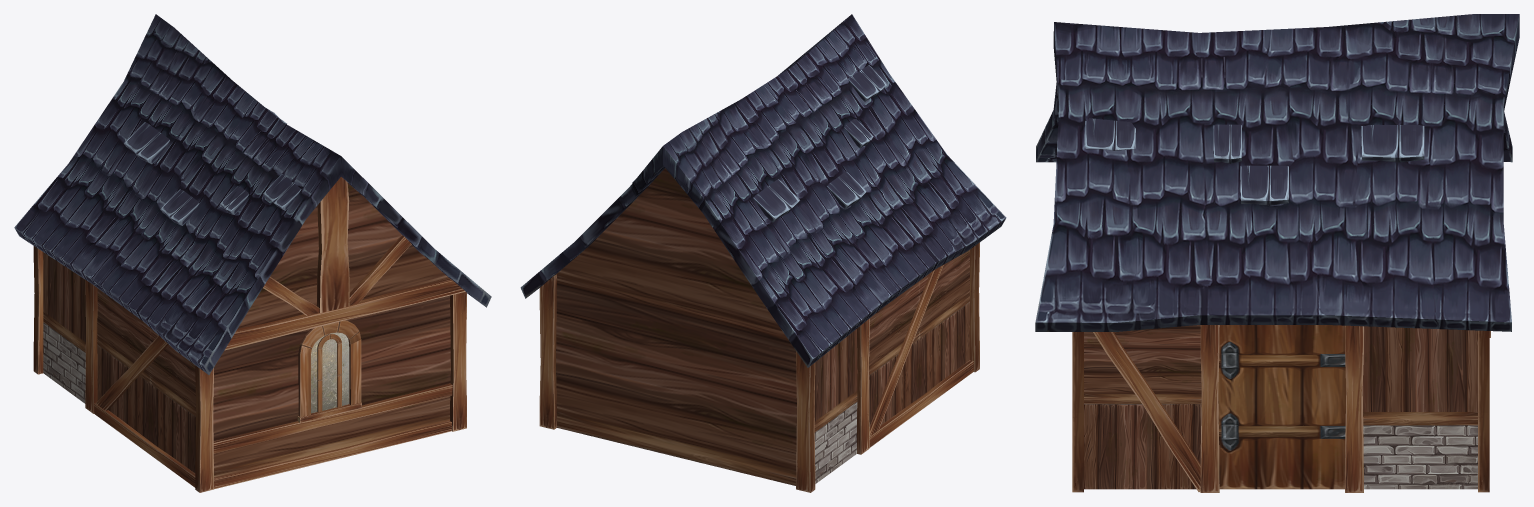
File: pingminfang02.fbx
The picture shows the model from 3 angles, left to right: view 1: azimuth 30°, elevation 25°; view 2: azimuth 150°, elevation 25°; view 3: azimuth 270°, elevation 25°; orthographic projection. The views are drawn at different scales.
Parts seen in each view (by area): view 1: 对象004; view 2: 对象004; view 3: 对象004.
Part boxes in pixels (x1,y1,x2,y2): 对象004: (14,14,491,492); 对象004: (520,14,1006,492); 对象004: (1035,14,1519,492).
Bounding box in the file's own units: 65.29 × 68.62 × 75.87.
1 material, 1 textured.
